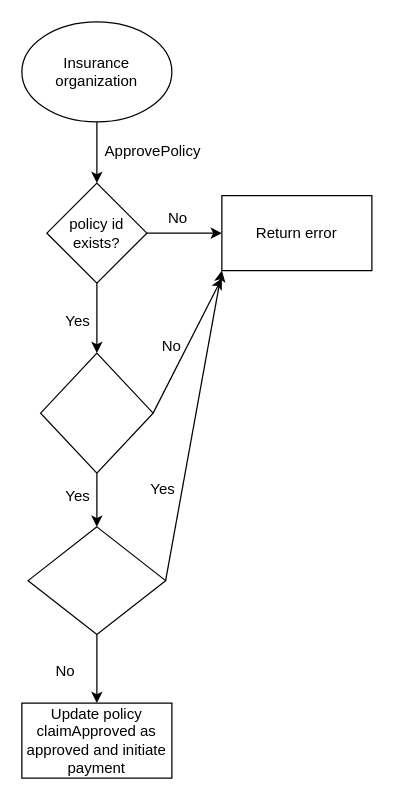
Some shapes in this 394 by 800 pixel diagram are drawn without their labels. The centre of each missing label's shape, as x and y in pixels:
Policy claimApproved = approved?: the point at 96,580
policy claimStatus = Claimed?: the point at 96,412
